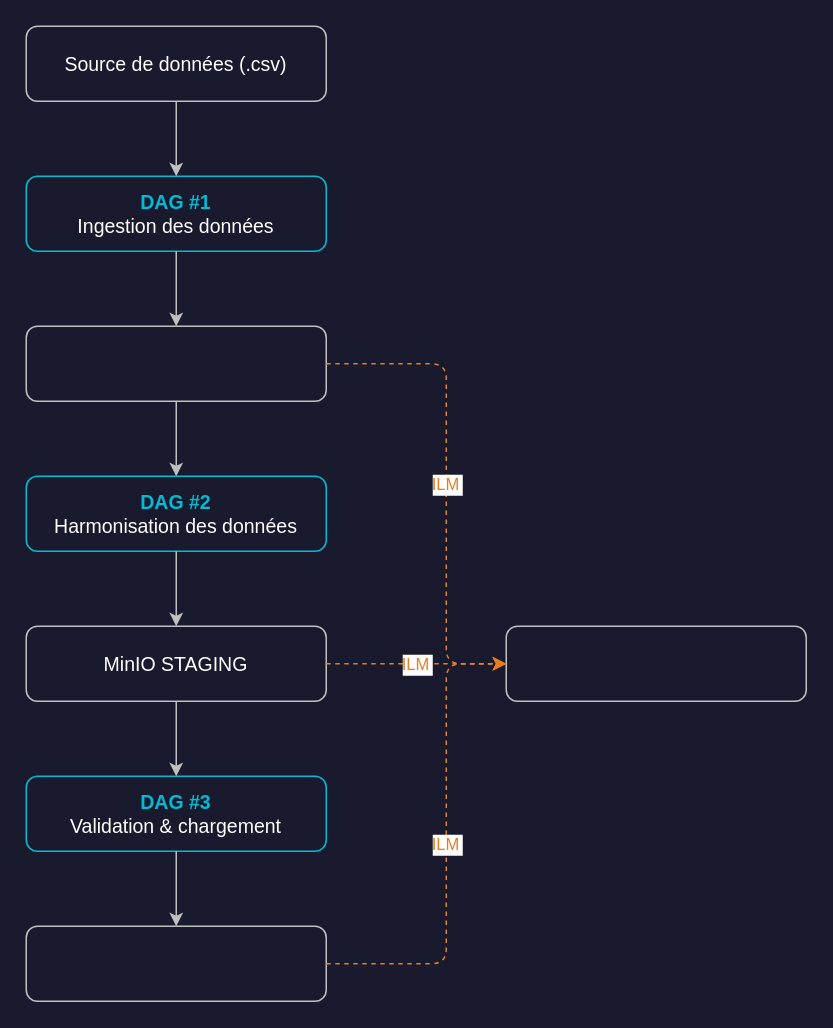
Image size: 833x1028. Some labels were removed from this diagram. The shapes that lost their labels are listed below. From the top down, each one's centre as x and y in pixels, then its label:
At [175,363]: "MinIO RAW".
At [655,663]: "MinIO ARCHIVE".
At [175,963]: "MinIO CURATED".
